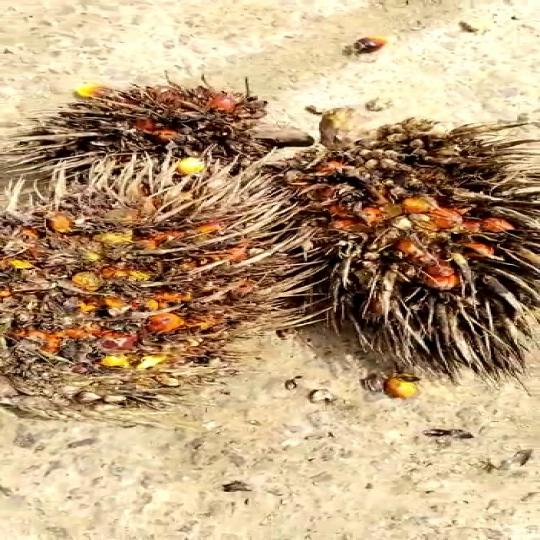terlalu masak: (269, 106, 540, 372), (0, 175, 297, 396), (22, 83, 290, 181)
